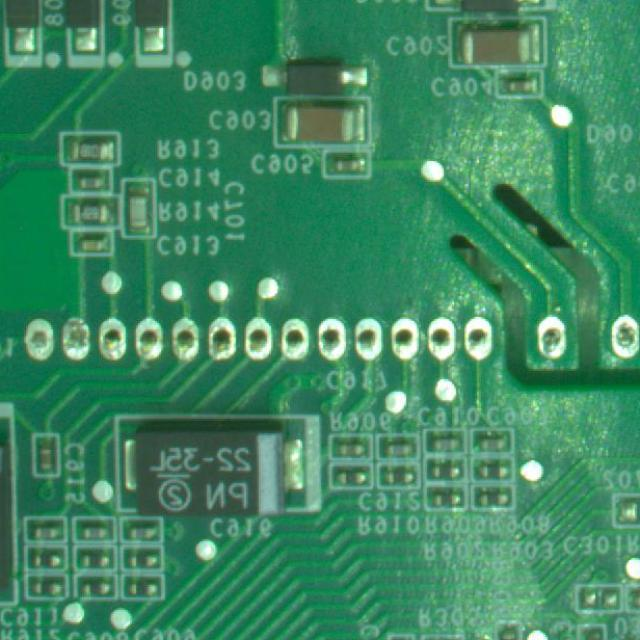Insufficient solder: (530, 308, 574, 368), (420, 315, 466, 369), (312, 315, 354, 371), (96, 308, 136, 366), (198, 316, 248, 361), (346, 314, 391, 364), (165, 310, 204, 366), (276, 312, 315, 368), (383, 311, 422, 364), (604, 308, 640, 365), (126, 312, 166, 362), (17, 314, 58, 362), (458, 314, 497, 362), (240, 314, 276, 362)
